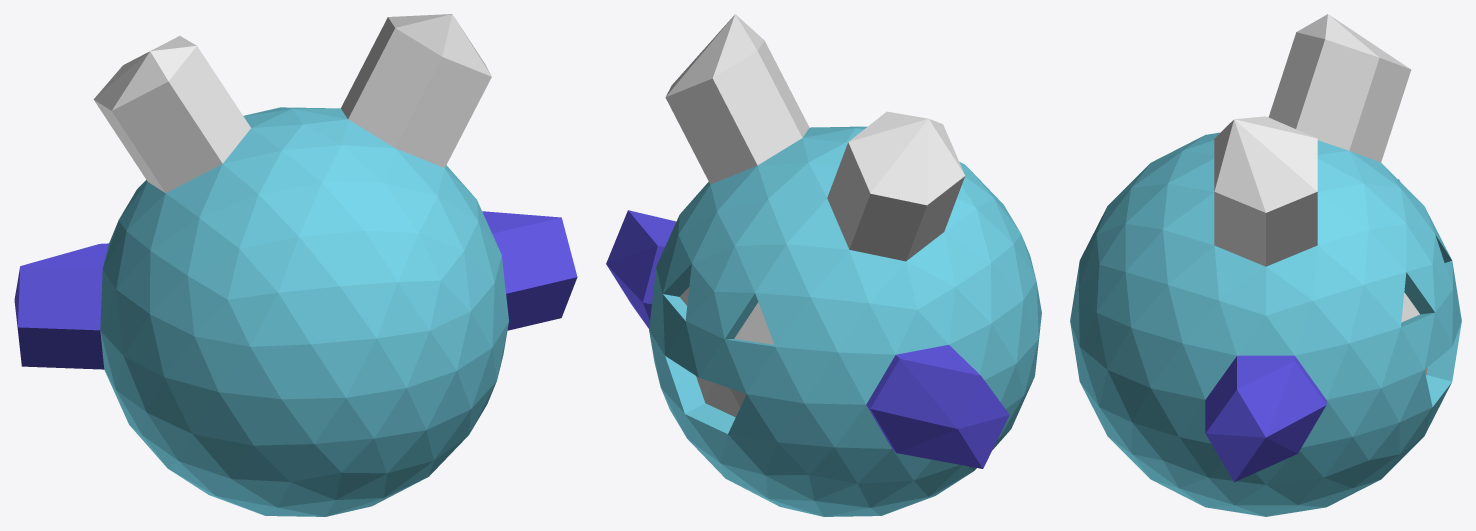
Rendered from player.fbx.
3 views of the same model, side by side, from view 1: azimuth 30°, elevation 25°; view 2: azimuth 150°, elevation 25°; view 3: azimuth 270°, elevation 25° (orthographic). The views are drawn at different scales.
Parts seen in each view (by area): view 1: Icosphere; view 2: Icosphere; view 3: Icosphere.
Part boxes in pixels (x1,y1,x2,y2): Icosphere: [14, 14, 577, 516]; Icosphere: [606, 14, 1041, 516]; Icosphere: [1070, 14, 1461, 516].
Size of the model in its own units: 267 by 248 by 200.
